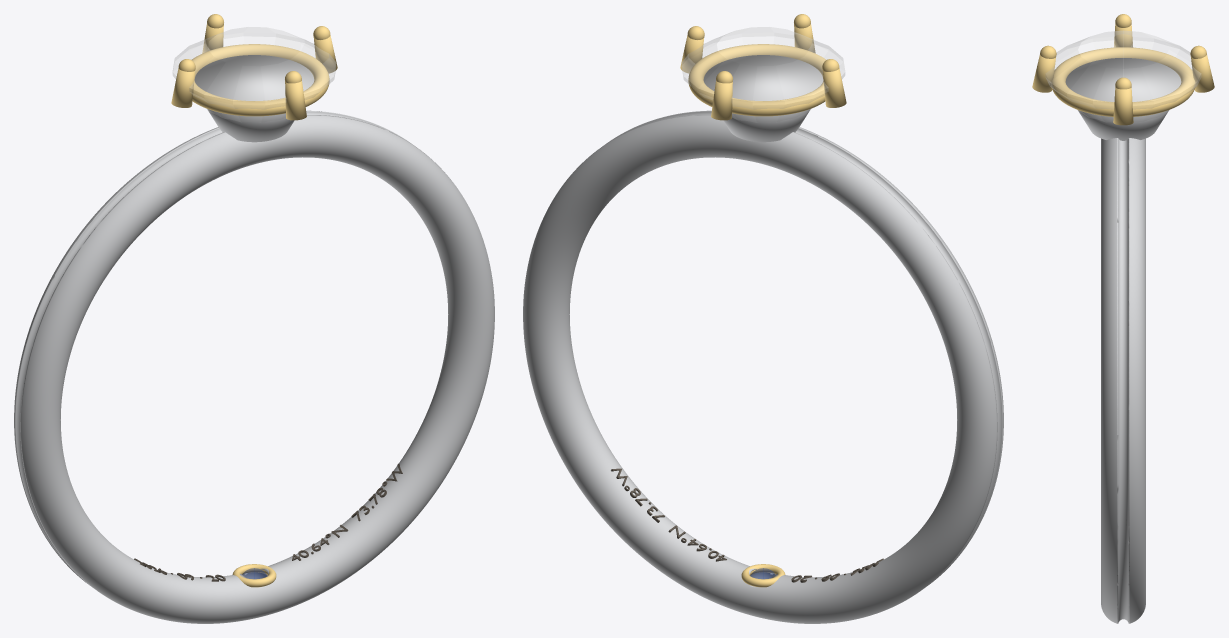
The model's file is meridian.glb.
The picture shows the model from 3 angles, left to right: view 1: azimuth 30°, elevation 25°; view 2: azimuth 150°, elevation 25°; view 3: azimuth 270°, elevation 25°; orthographic projection. The views are drawn at different scales.
Visible parts, largest first — view 1: Band, Diamond, Collet, Seat, Engraving, Prong3, Prong2; view 2: Band, Diamond, Collet, Seat, Engraving, Prong1, Prong2; view 3: Band, Diamond, Collet, Seat, Prong0, Prong1, Prong3, Prong2.
Part boxes in pixels (box(x1,y1,x2,y2)): Band: box(14, 110, 494, 623); Diamond: box(173, 27, 335, 122); Collet: box(194, 55, 314, 142); Seat: box(191, 44, 329, 116); Engraving: box(134, 463, 402, 581); Prong3: box(285, 81, 306, 120); Prong2: box(171, 68, 195, 107); Band: box(523, 110, 1003, 623); Diamond: box(682, 27, 844, 122); Collet: box(703, 55, 823, 142); Seat: box(688, 44, 826, 116); Engraving: box(611, 468, 883, 582); Prong1: box(711, 81, 732, 120); Prong2: box(822, 68, 846, 107); Band: box(1101, 138, 1145, 623); Diamond: box(1045, 30, 1201, 121); Collet: box(1065, 58, 1181, 140); Seat: box(1051, 47, 1195, 116); Prong0: box(1113, 88, 1133, 125); Prong1: box(1191, 55, 1214, 92); Prong3: box(1032, 55, 1055, 92); Prong2: box(1114, 24, 1132, 47).
Size of the model in its own units: 19.85 by 22.91 by 6.85.
